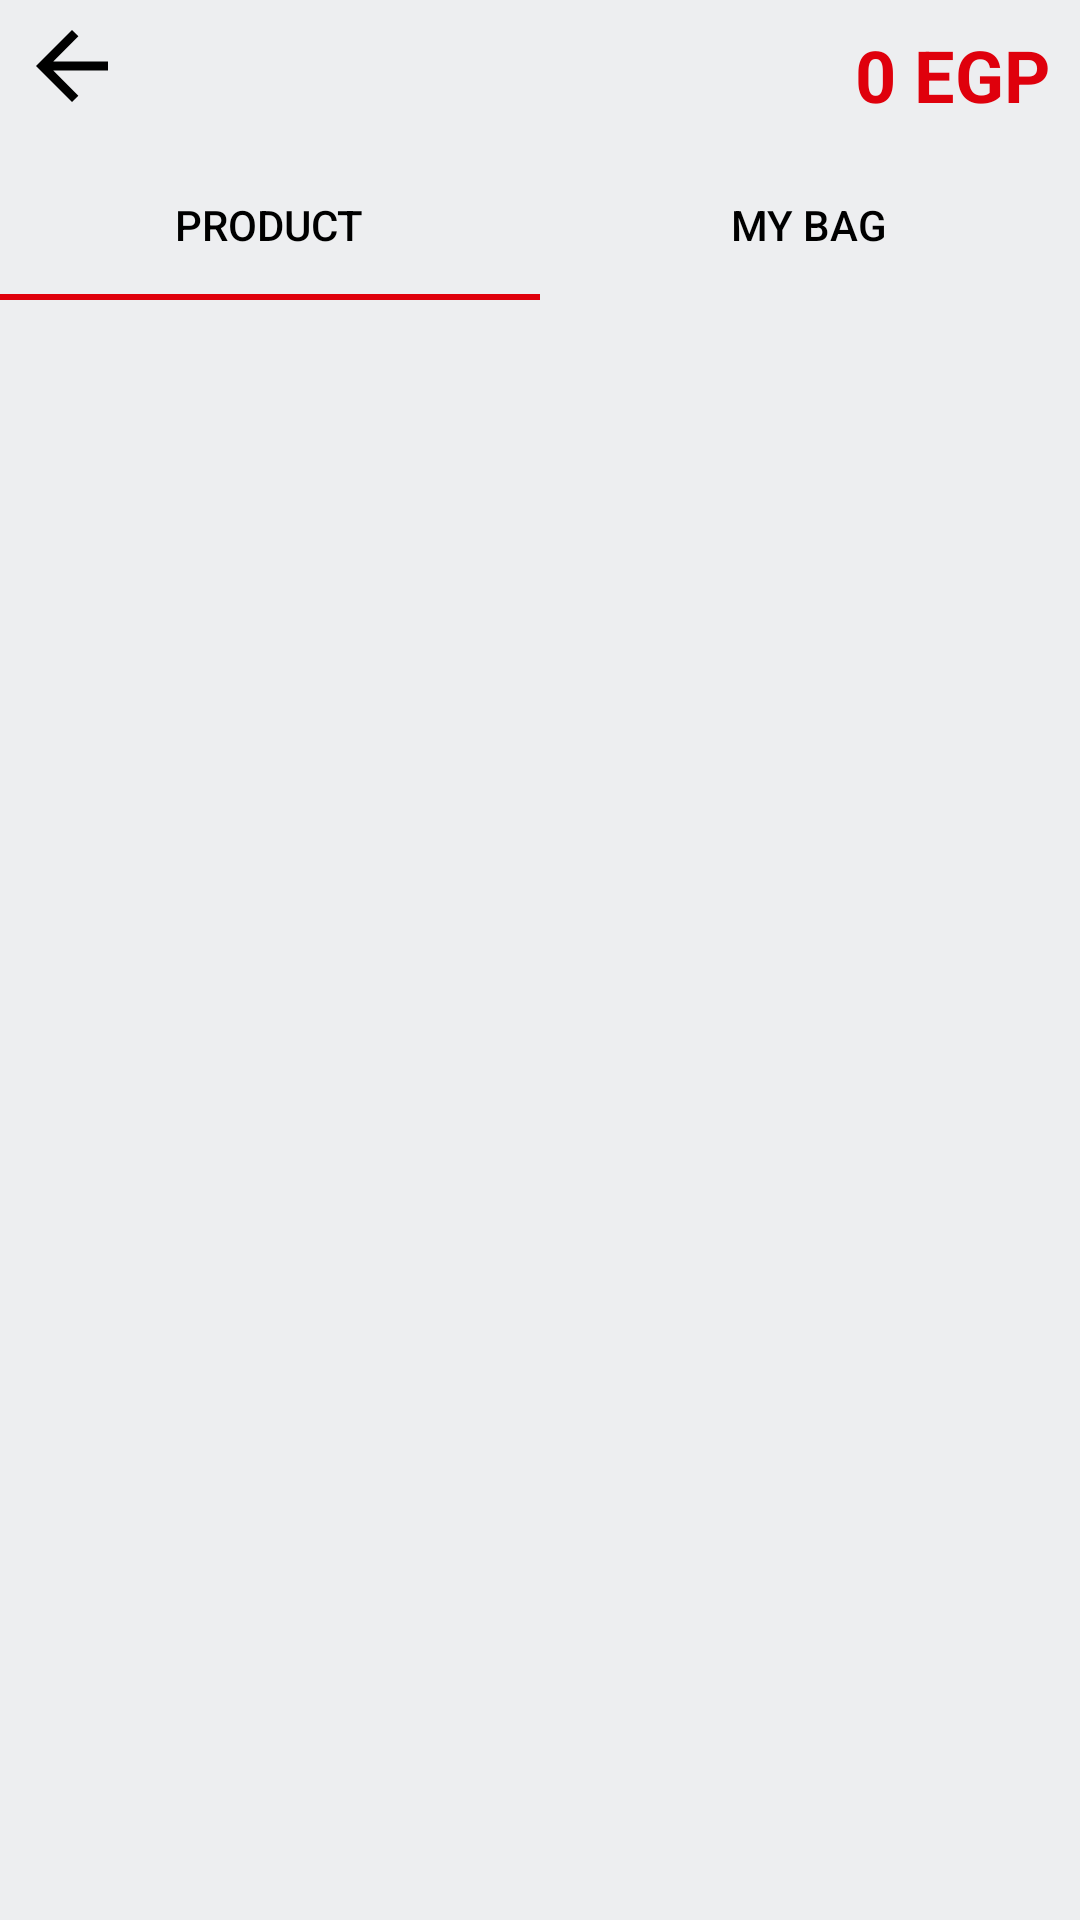

Named icons in this screenshot (1080 × 1920) and their bounding boxes, (x1, y1, x2, y2):
back: (36, 30, 108, 102)
